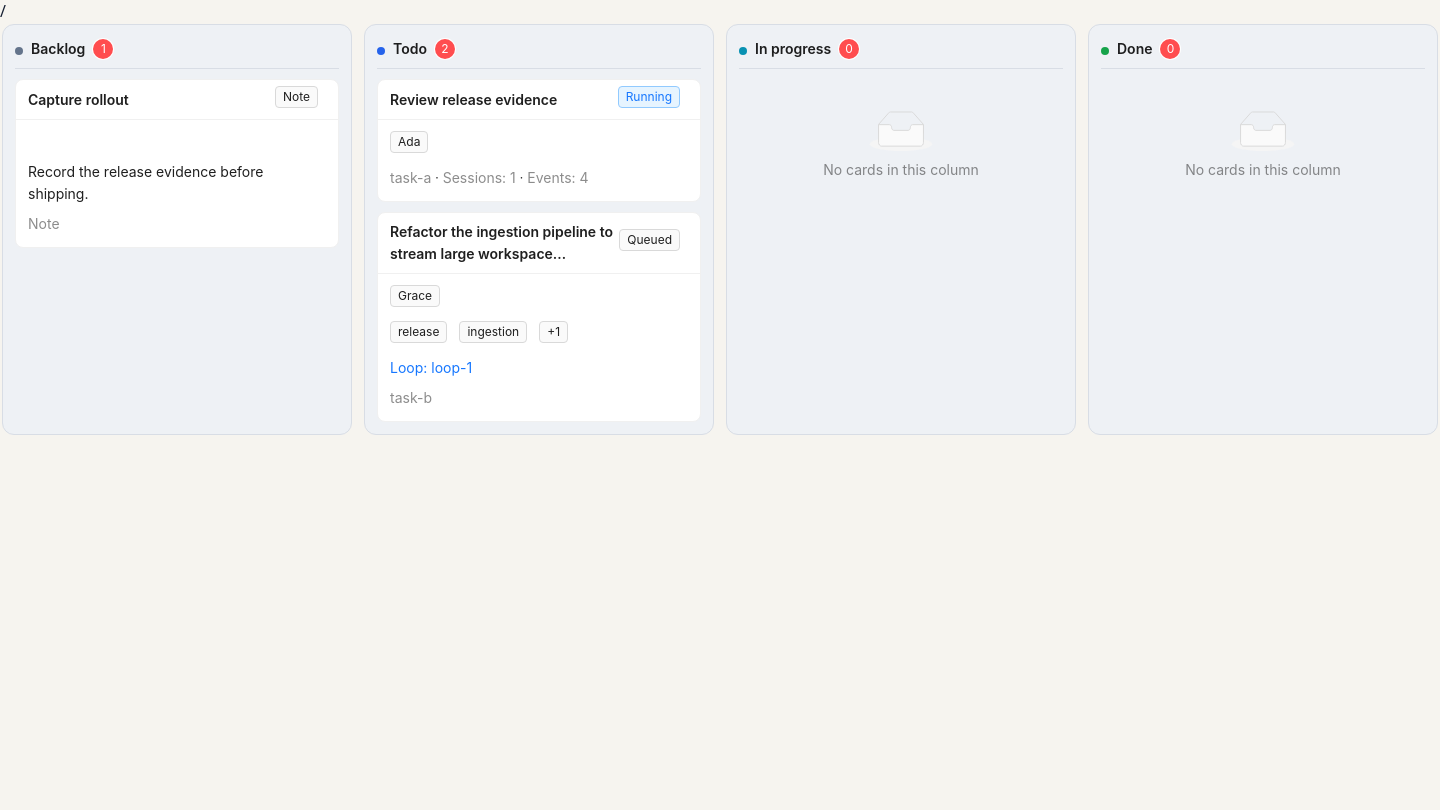
Scenario: TaskBoardGrid Start confirmation › opens the Start confirmation with content immediately when the task resolves synchronously
Press the mouse on the link with aria-label "Open task detail: Refactor the ingestion pipeline to stream" at (539, 317), box [377, 212, 701, 422]
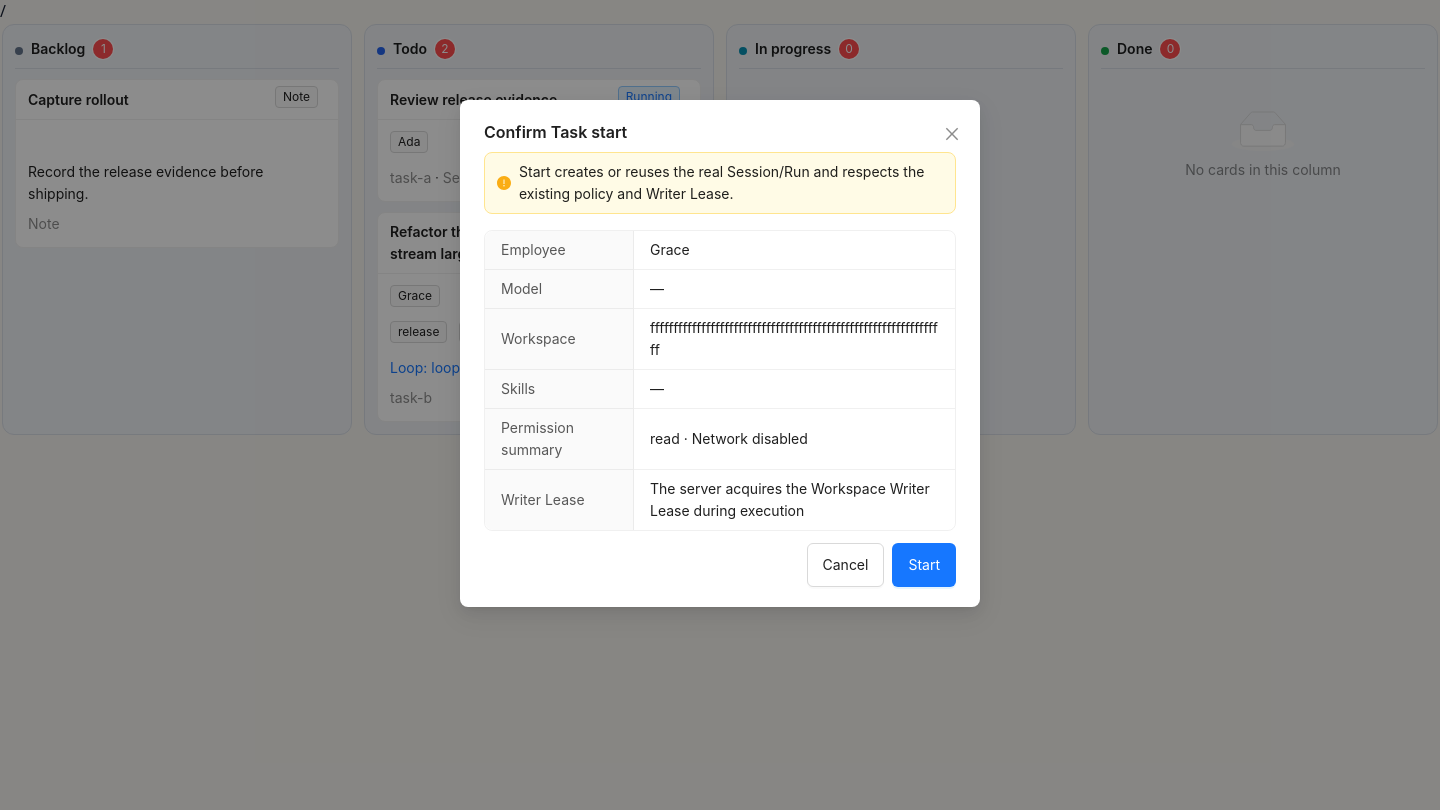
Check: the text "Confirm Task start" is shown, box [484, 122, 627, 142]
Check: the button "Start" is enabled, box [892, 543, 956, 587]
